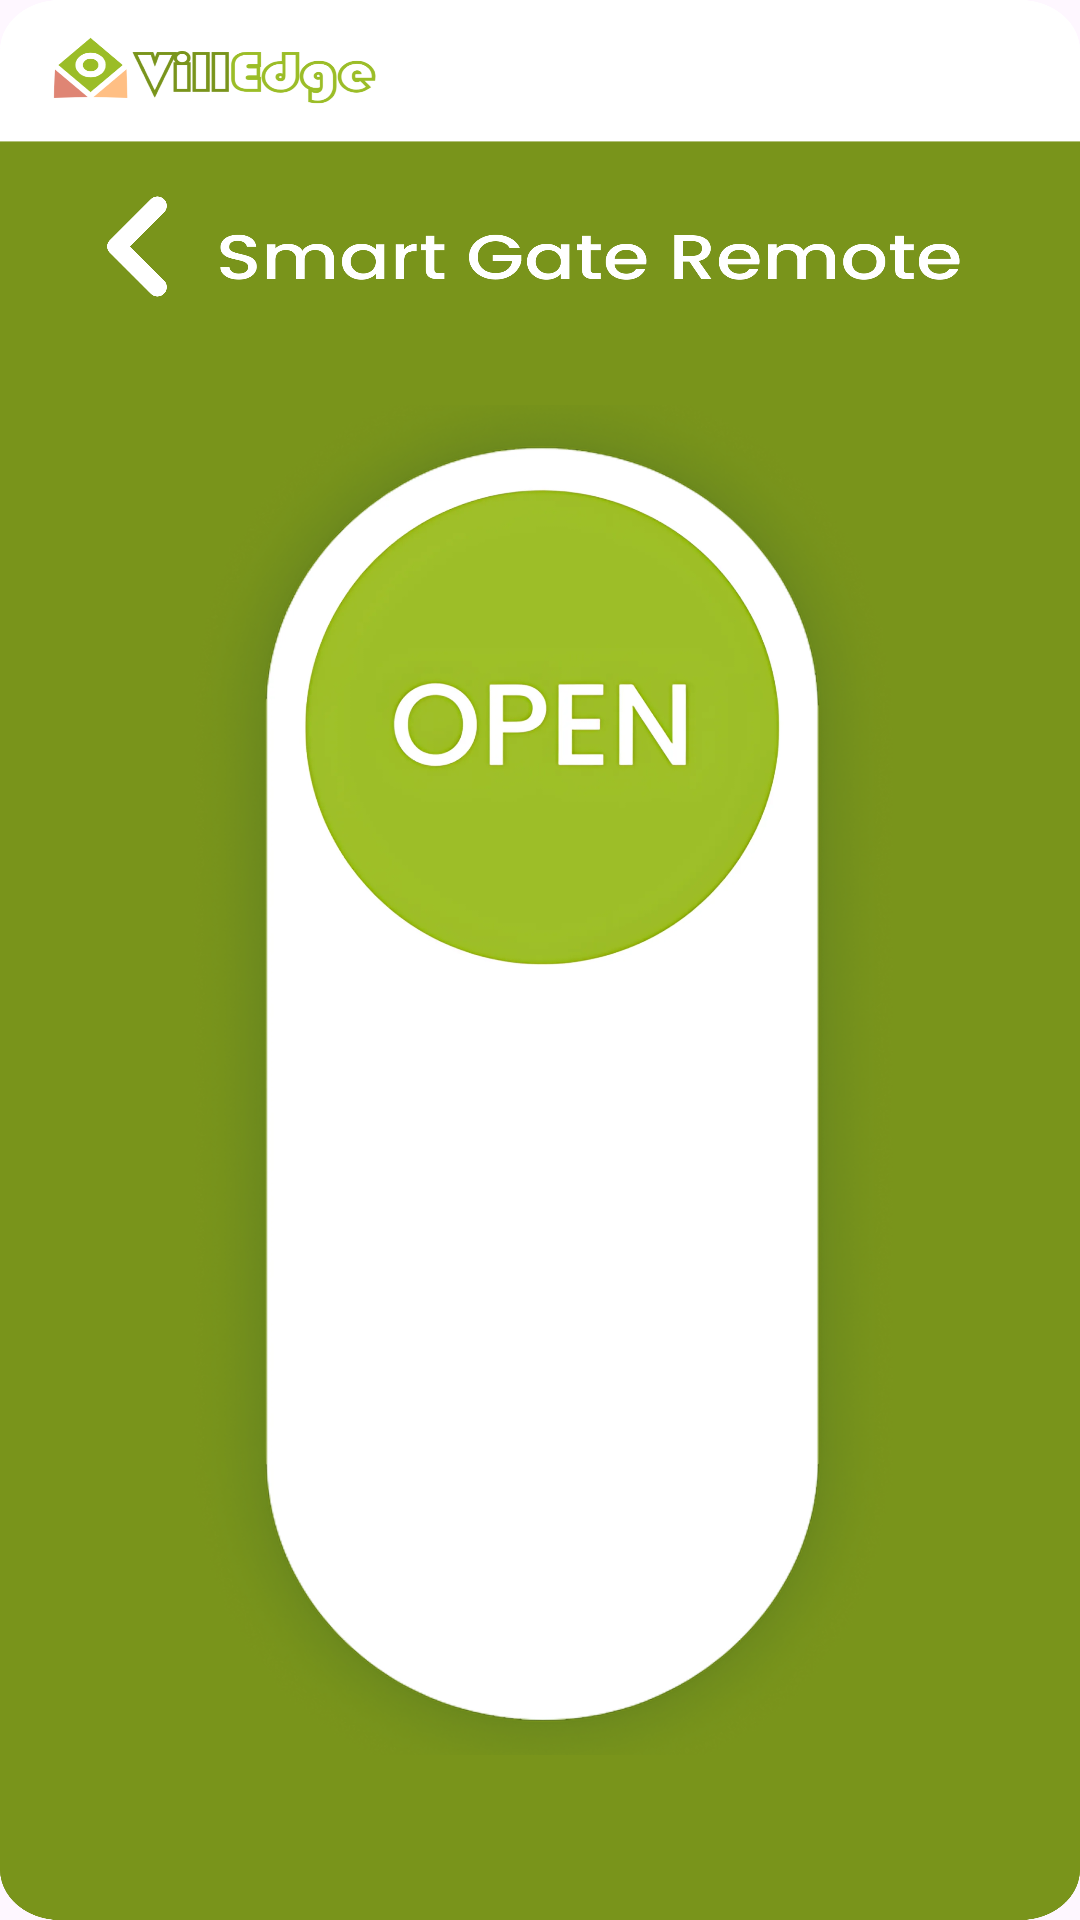

Where icons sit on this 1080px x 1920px app screen, as (x1, y1, x2, y2):
backbutton: (107, 196, 167, 297)
